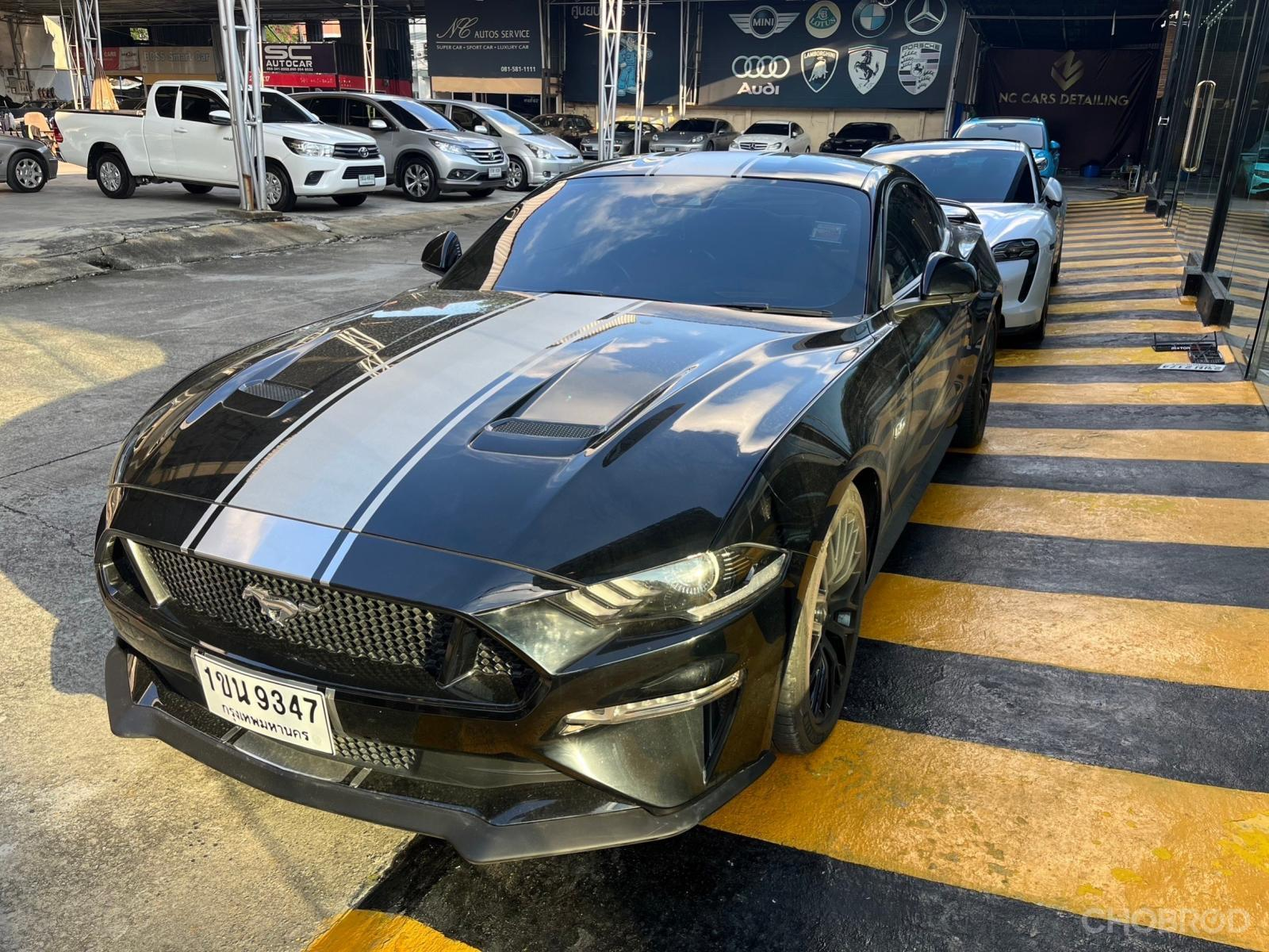license-plate: (190, 642, 339, 762), (358, 171, 376, 189), (489, 163, 503, 180)
